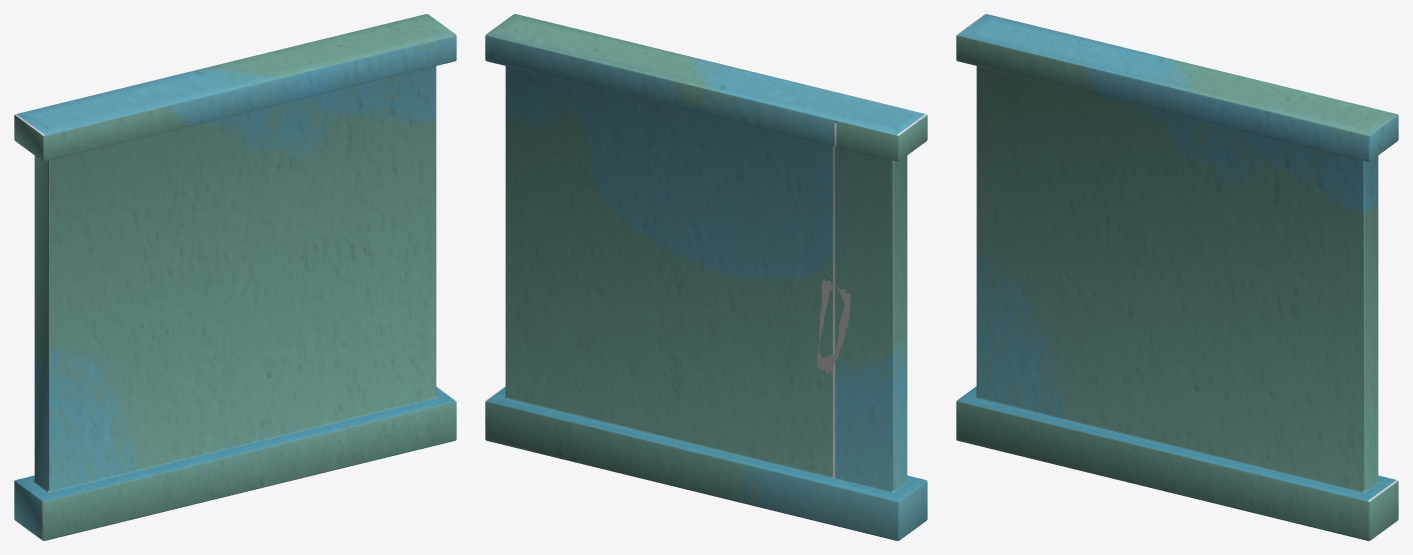
The model's file is TOMB_WALL_3.obj.
3 renders of one model, left to right at view 1: azimuth 30°, elevation 25°; view 2: azimuth 150°, elevation 25°; view 3: azimuth 330°, elevation 25°, orthographic.
Visible parts, largest first — view 1: TOMB_WALL_3.007; view 2: TOMB_WALL_3.007; view 3: TOMB_WALL_3.007.
Boxes of the visible parts, <box> form: TOMB_WALL_3.007: <box>14,14,456,540</box>; TOMB_WALL_3.007: <box>485,14,927,540</box>; TOMB_WALL_3.007: <box>956,14,1398,540</box>.
Size of the model in its own units: 3.2 by 3 by 0.4.
